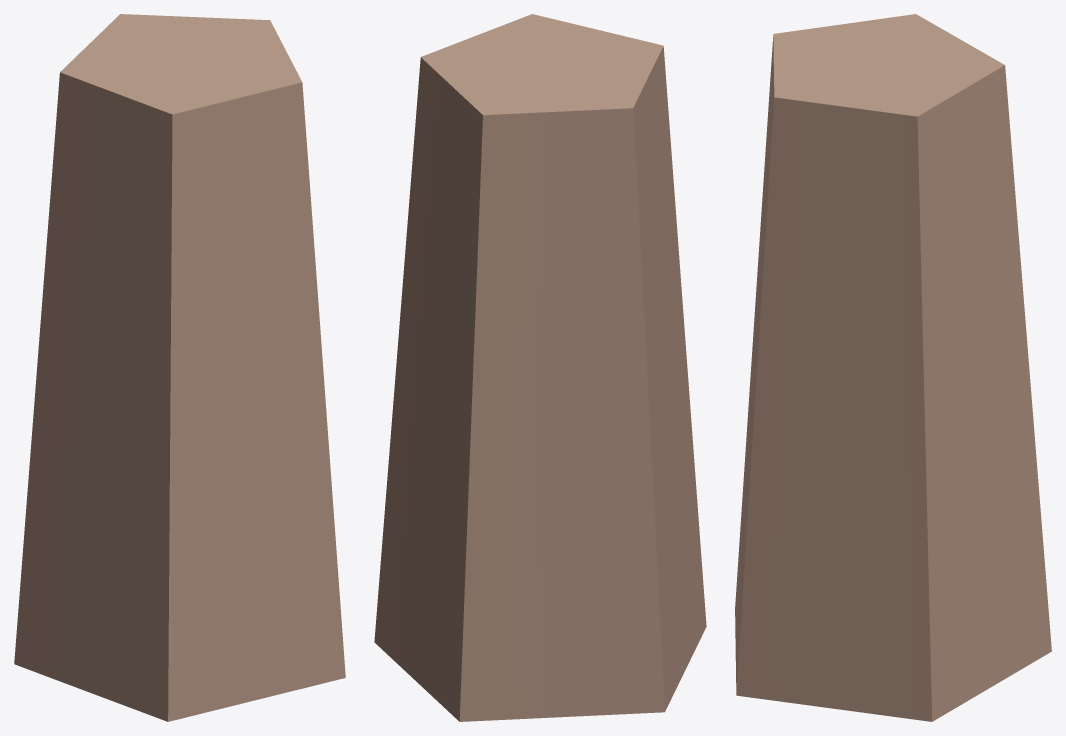
File: stump_a.gltf
The picture shows the model from 3 angles, left to right: view 1: azimuth 30°, elevation 25°; view 2: azimuth 150°, elevation 25°; view 3: azimuth 270°, elevation 25°; orthographic projection.
Visible parts, largest first — view 1: stump_a; view 2: stump_a; view 3: stump_a.
Part boxes in pixels (x1=…): stump_a: x1=14, y1=14, x2=345, y2=721; stump_a: x1=374, y1=14, x2=706, y2=721; stump_a: x1=735, y1=14, x2=1051, y2=721.
Size of the model in its own units: 0.1697 by 0.3302 by 0.1617.
